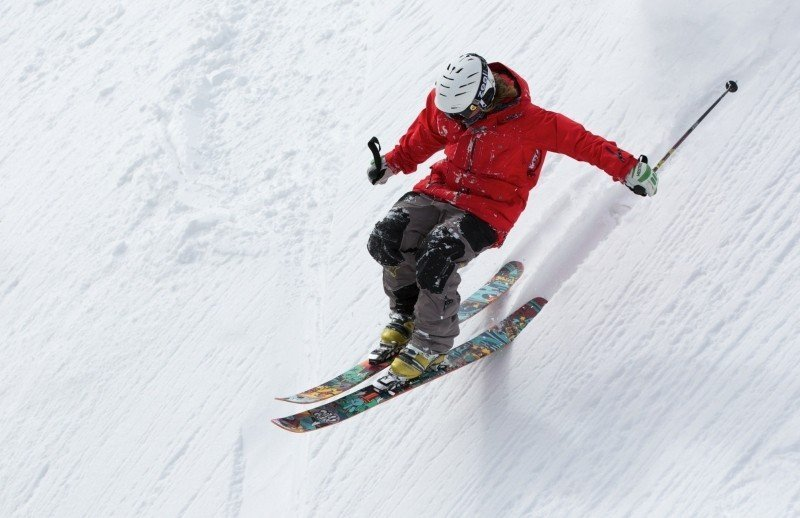helmet: (424, 47, 501, 121)
